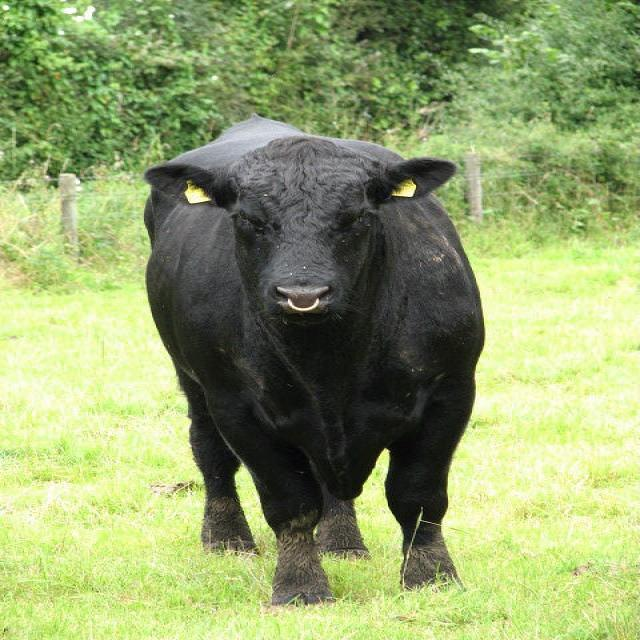cowFace: (147, 133, 457, 334)
